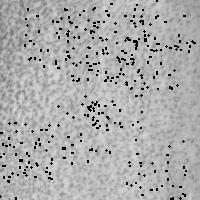pitted_surface: (2, 1, 199, 199), (84, 3, 144, 63), (24, 8, 83, 67), (126, 139, 185, 198), (84, 69, 143, 127), (55, 22, 114, 80), (57, 103, 109, 162), (120, 37, 179, 88), (133, 0, 193, 50), (0, 122, 51, 178), (0, 159, 30, 200)
